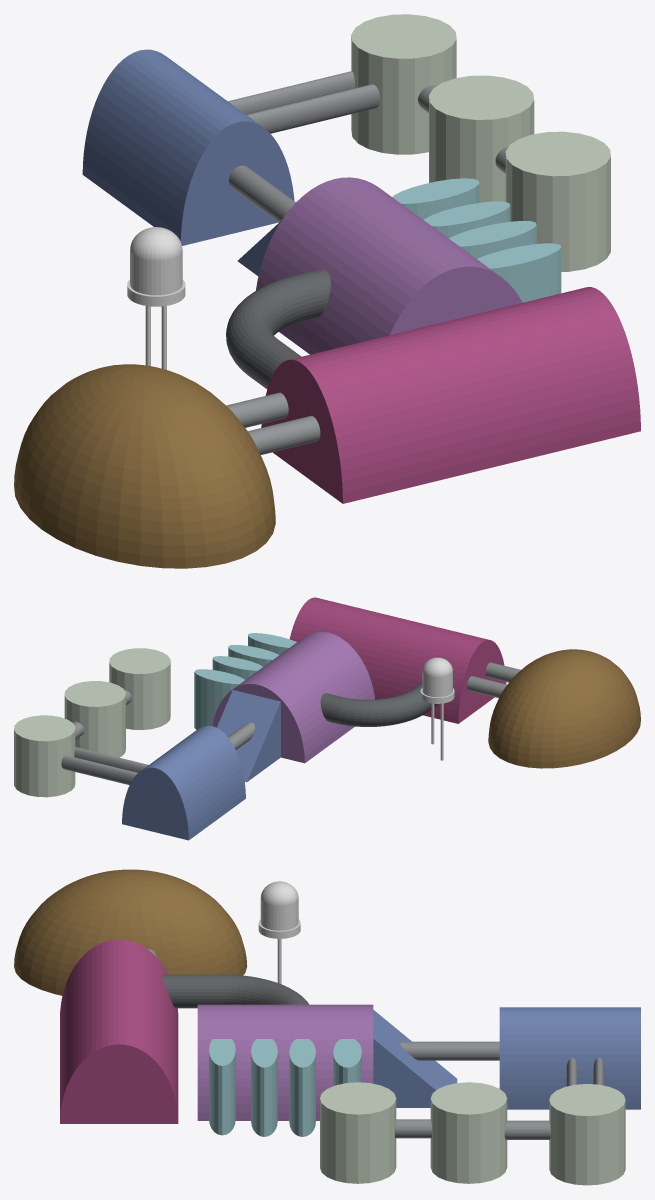
File: steam.glb
3 renders of one model, top to bottom at view 1: azimuth 30°, elevation 25°; view 2: azimuth 150°, elevation 25°; view 3: azimuth 270°, elevation 25°, orthographic. The views are drawn at different scales.
Parts seen in each view (by area): view 1: Mesh_Mesh_head_geo.001_lambert2SG.001; view 2: Mesh_Mesh_head_geo.001_lambert2SG.001; view 3: Mesh_Mesh_head_geo.001_lambert2SG.001.
Part boxes in pixels (box(x1,y1,x2,y2)): Mesh_Mesh_head_geo.001_lambert2SG.001: box(14, 14, 640, 568); Mesh_Mesh_head_geo.001_lambert2SG.001: box(14, 597, 640, 840); Mesh_Mesh_head_geo.001_lambert2SG.001: box(14, 869, 640, 1185).
Size of the model in its own units: 158 by 35.65 by 164.
